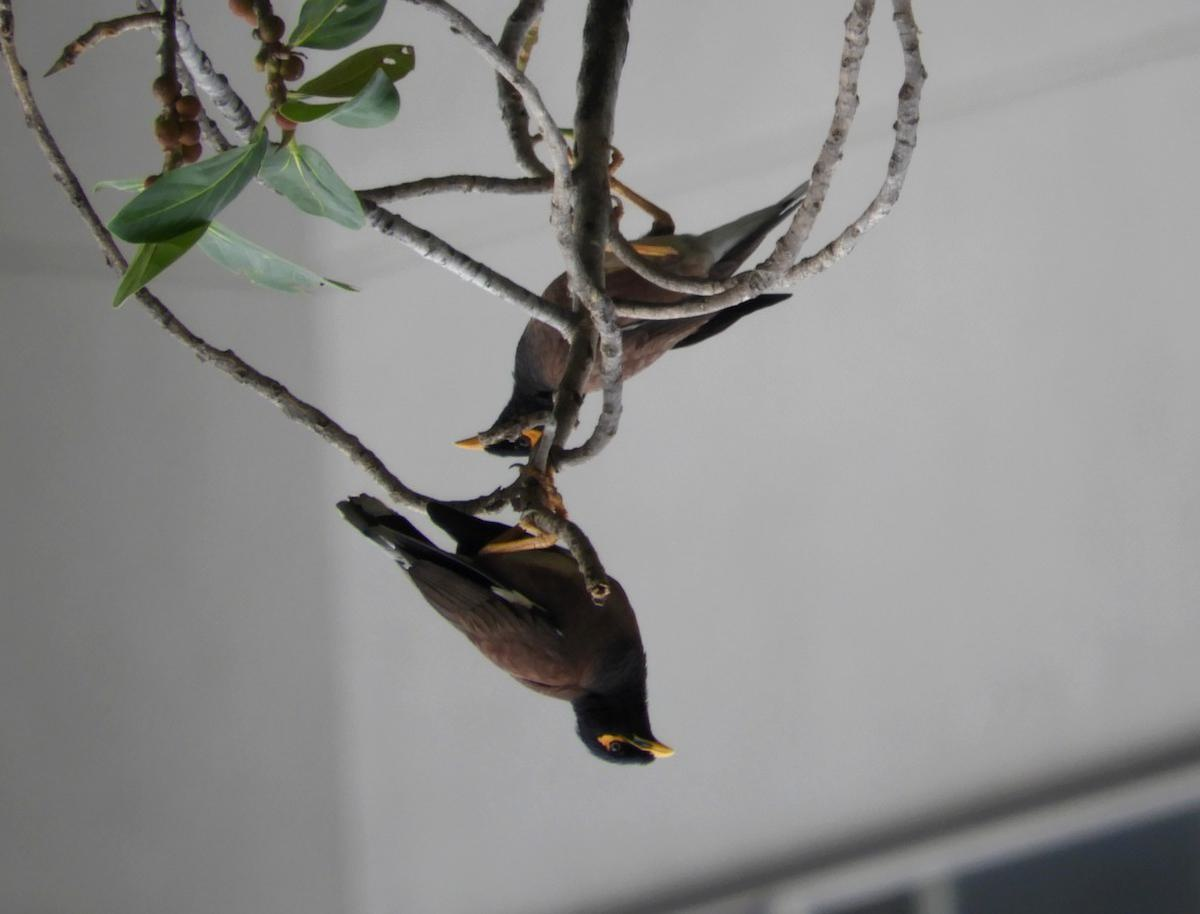myna: (309, 484, 690, 784), (438, 207, 839, 468)
